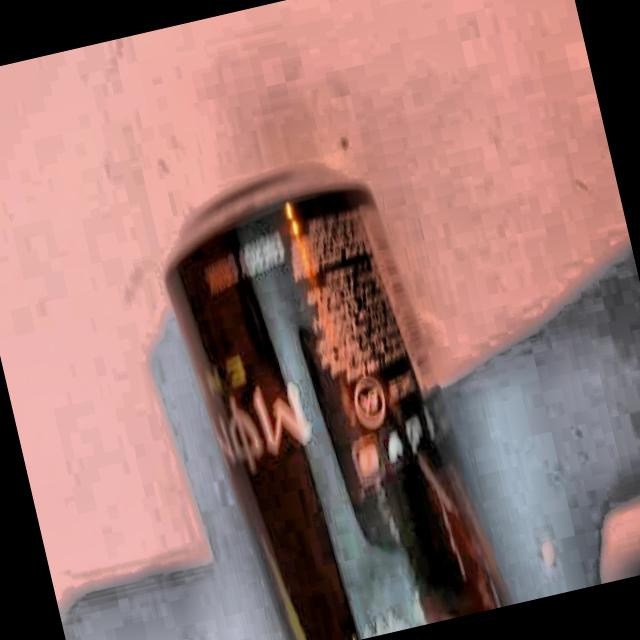metal: (137, 132, 537, 640)
